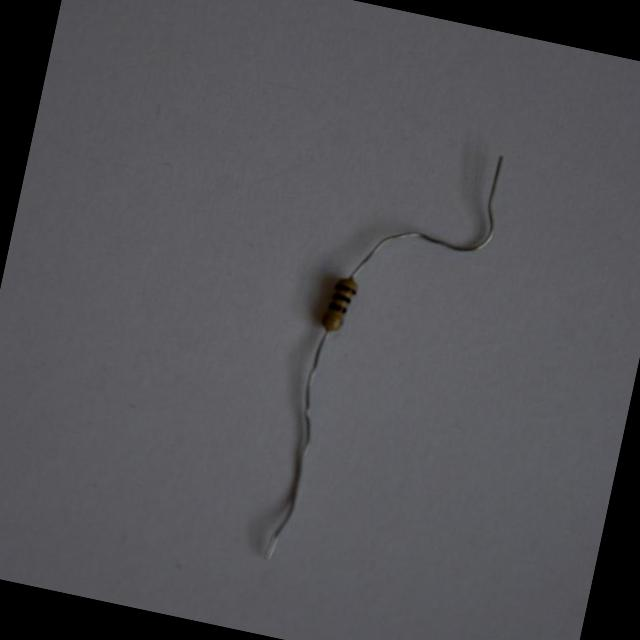Resistor: (322, 277, 358, 330)
black: (332, 293, 351, 304)
brown: (334, 284, 355, 295), (328, 303, 347, 313)
gold: (323, 317, 343, 325)
